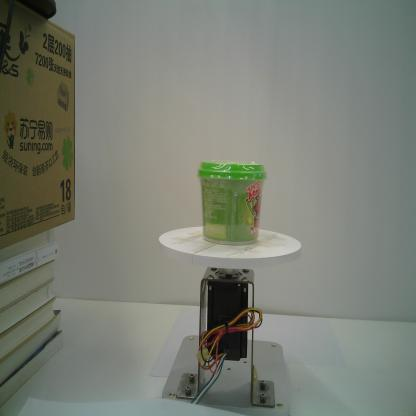Instant Drink: (197, 160, 266, 245)
